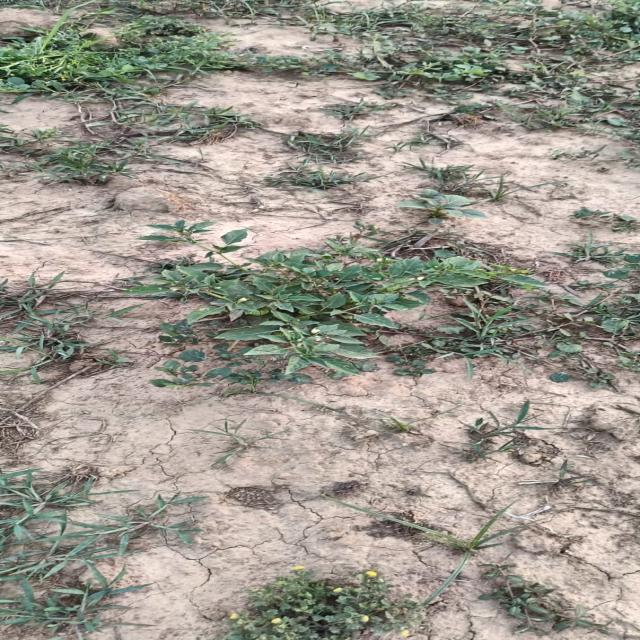plant: (124, 221, 539, 387)
